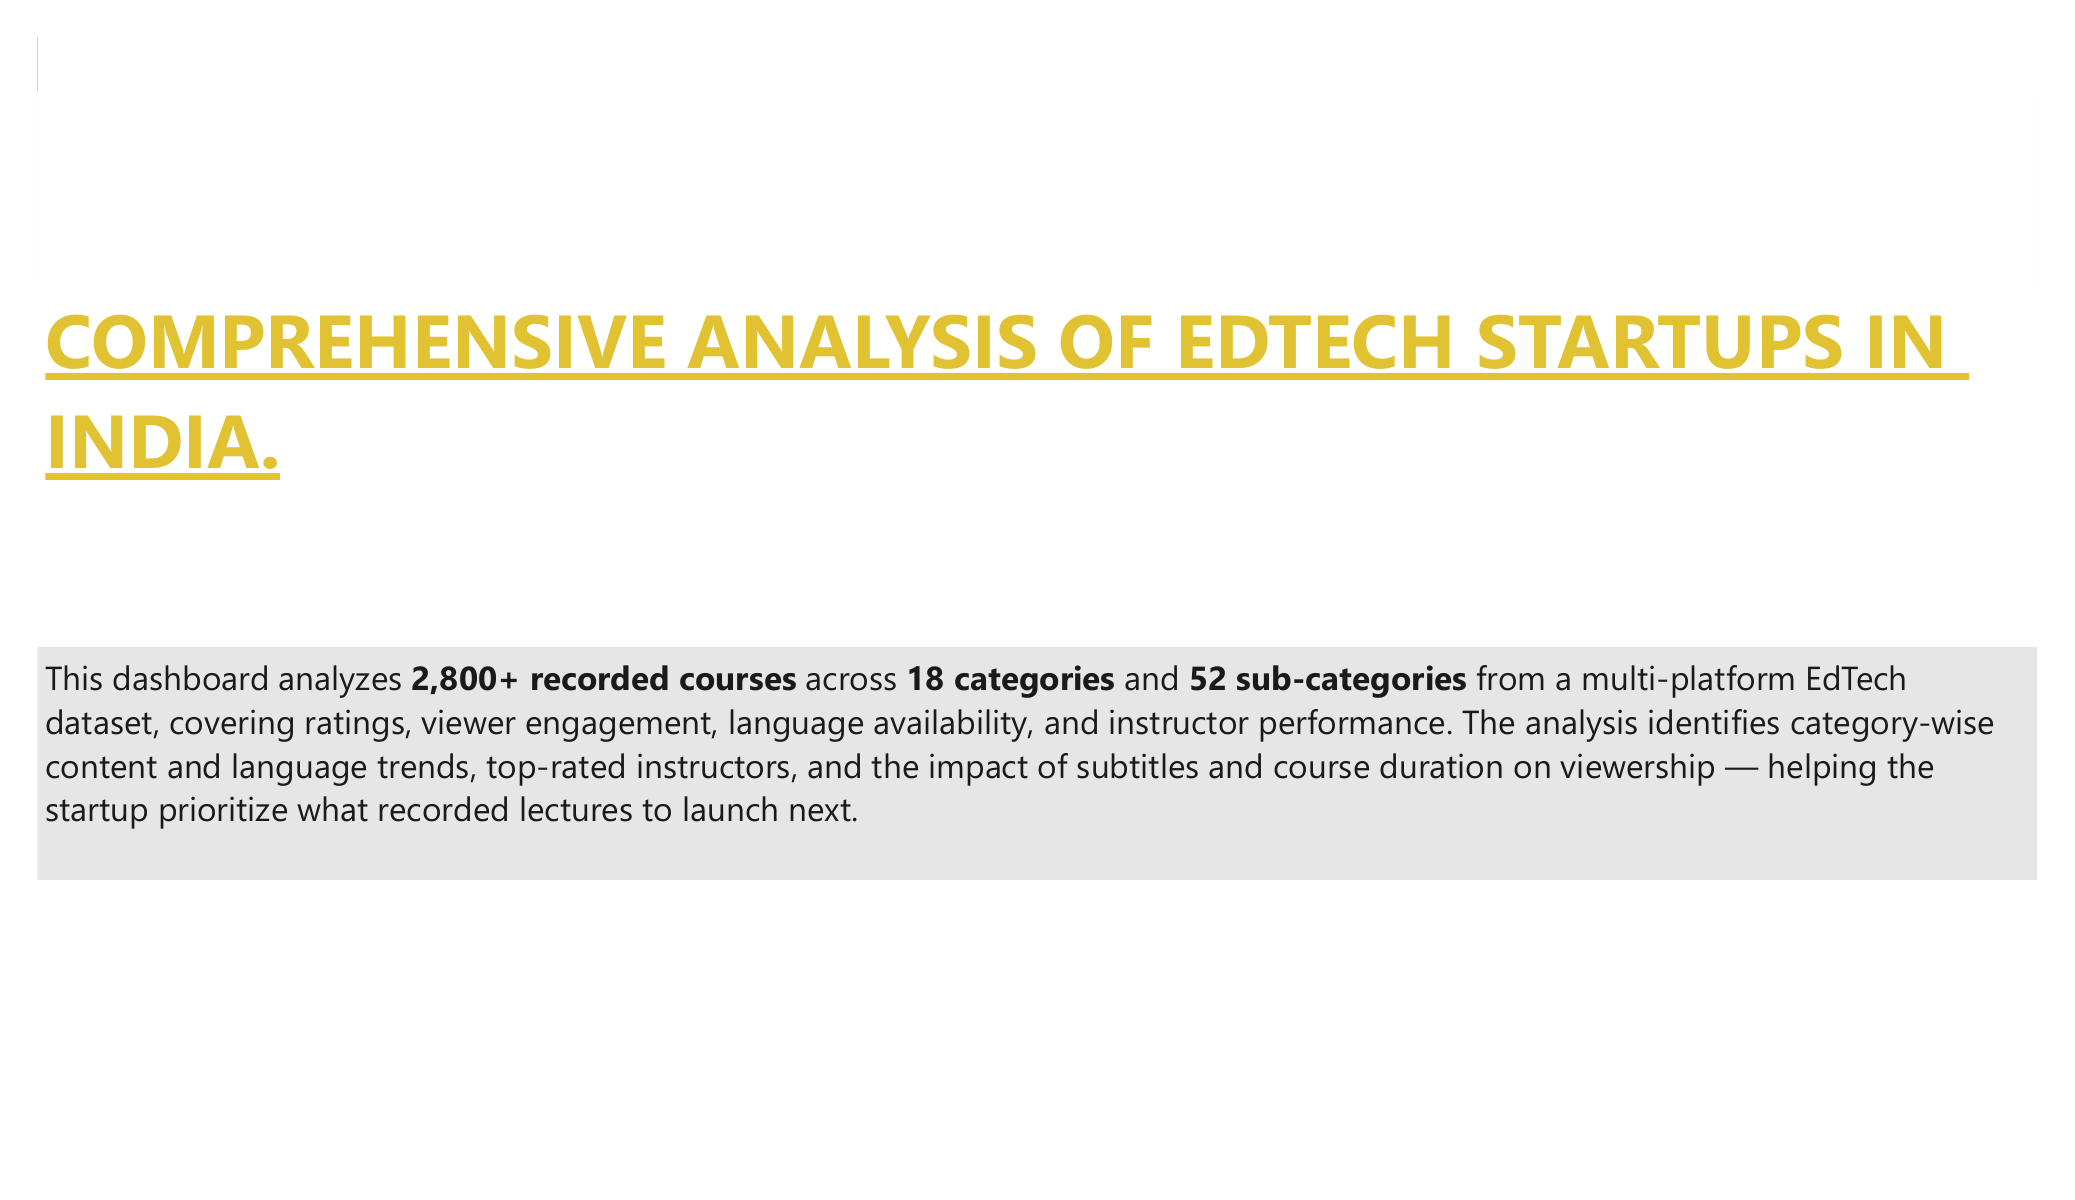

The dashboard page shown, as its layout file describes it:
{"tool":"powerbi","page":{"name":"Home","canvas":[1280,720],"ordinal":0},"visuals":[{"type":"textbox","box":[10,0,280,280],"z":0},{"type":"textbox","box":[0,155.1,1280.3,142.7],"z":1000},{"type":"textbox","box":[0,389.7,1280.3,149.6],"z":1001}]}

Visuals, with their boxes on the page's 1280x720 design canvas (x1, y1, x2, y2). These are canvas units, not pixel positions in the 2075x1200 screenshot, which may show the page scaled, cropped or inside an application window:
textbox: x1=10 y1=0 x2=290 y2=280
textbox: x1=0 y1=155 x2=1280 y2=298
textbox: x1=0 y1=390 x2=1280 y2=539
